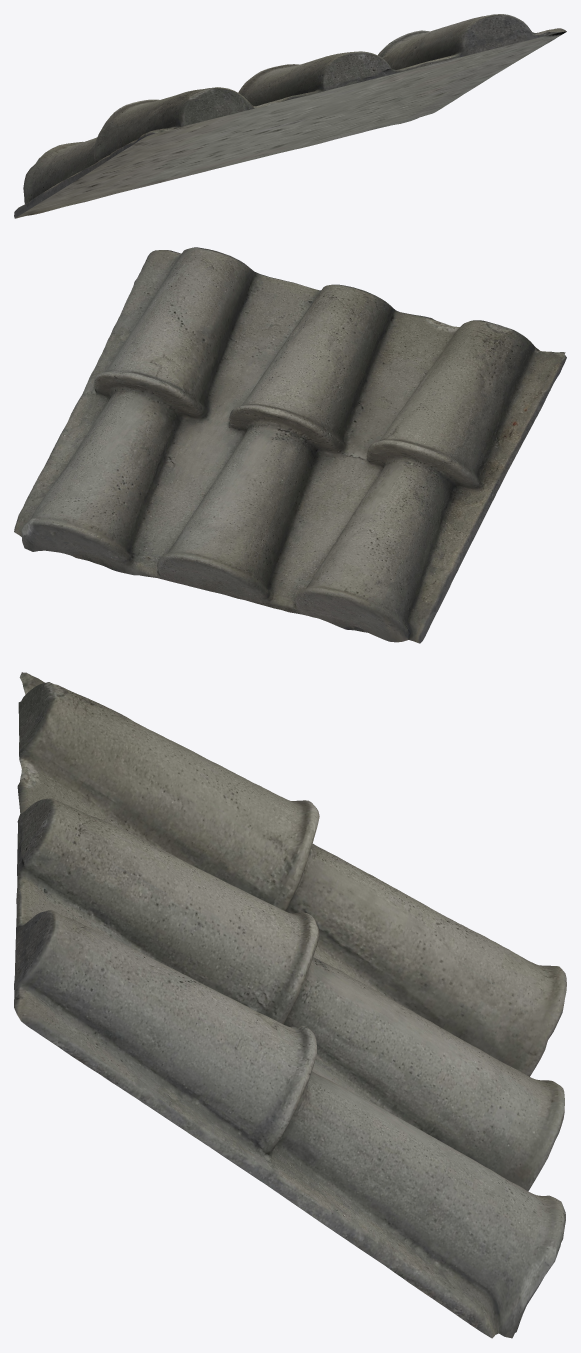
File: Retopo_3DModel_mesh.022.glb
3 renders of one model, top to bottom at view 1: azimuth 30°, elevation 25°; view 2: azimuth 150°, elevation 25°; view 3: azimuth 270°, elevation 25°, orthographic. The views are drawn at different scales.
Parts seen in each view (by area): view 1: Retopo_3DModel_mesh.022; view 2: Retopo_3DModel_mesh.022; view 3: Retopo_3DModel_mesh.022.
Part boxes in pixels (x1=…): Retopo_3DModel_mesh.022: x1=14, y1=14, x2=566, y2=218; Retopo_3DModel_mesh.022: x1=14, y1=247, x2=566, y2=643; Retopo_3DModel_mesh.022: x1=14, y1=672, x2=566, y2=1338.
Bounding box in the file's own units: 4.9 × 2.43 × 3.23.
1 material, 1 textured.
